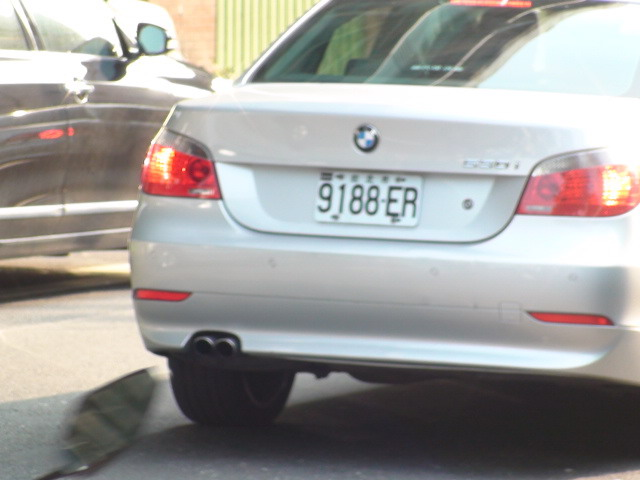plate: (314, 169, 424, 230)
